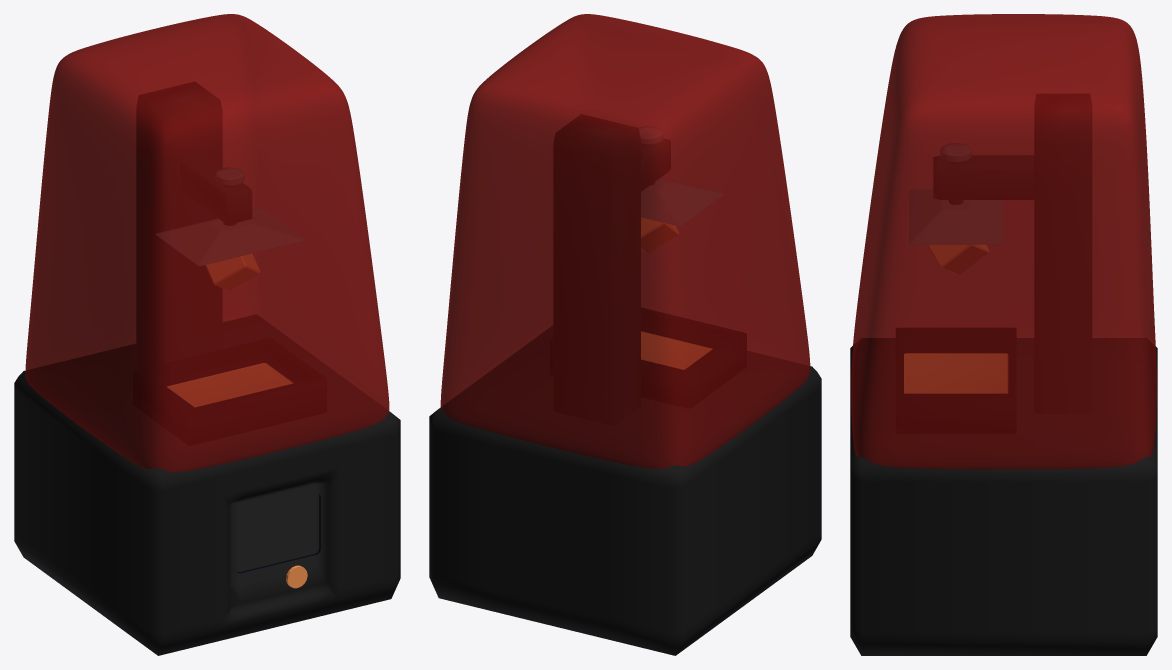
The model's file is sla.glb.
3 views of the same model, side by side, from view 1: azimuth 30°, elevation 25°; view 2: azimuth 150°, elevation 25°; view 3: azimuth 270°, elevation 25° (orthographic). The views are drawn at different scales.
Parts seen in each view (by area): view 1: galss, Cube, Cube.001, Cube.002, Cube.003; view 2: galss, Cube, Cube.001, Cube.002, Cube.003; view 3: galss, Cube, Cube.001, Cube.002, Cube.003.
Part boxes in pixels (x1,y1,x2,y2): galss: [25, 14, 389, 471]; Cube: [14, 315, 400, 655]; Cube.001: [136, 82, 222, 369]; Cube.002: [133, 338, 326, 445]; Cube.003: [156, 155, 303, 290]; galss: [440, 14, 810, 469]; Cube: [429, 326, 821, 655]; Cube.001: [553, 114, 640, 425]; Cube.002: [550, 308, 746, 408]; Cube.003: [639, 126, 723, 252]; galss: [851, 14, 1156, 469]; Cube: [850, 338, 1157, 655]; Cube.001: [1034, 94, 1091, 413]; Cube.002: [896, 328, 1016, 433]; Cube.003: [909, 143, 1033, 274].
Size of the model in its own units: 2.5 by 4.97 by 2.5.
Materials: 6 (3 with a texture image).
